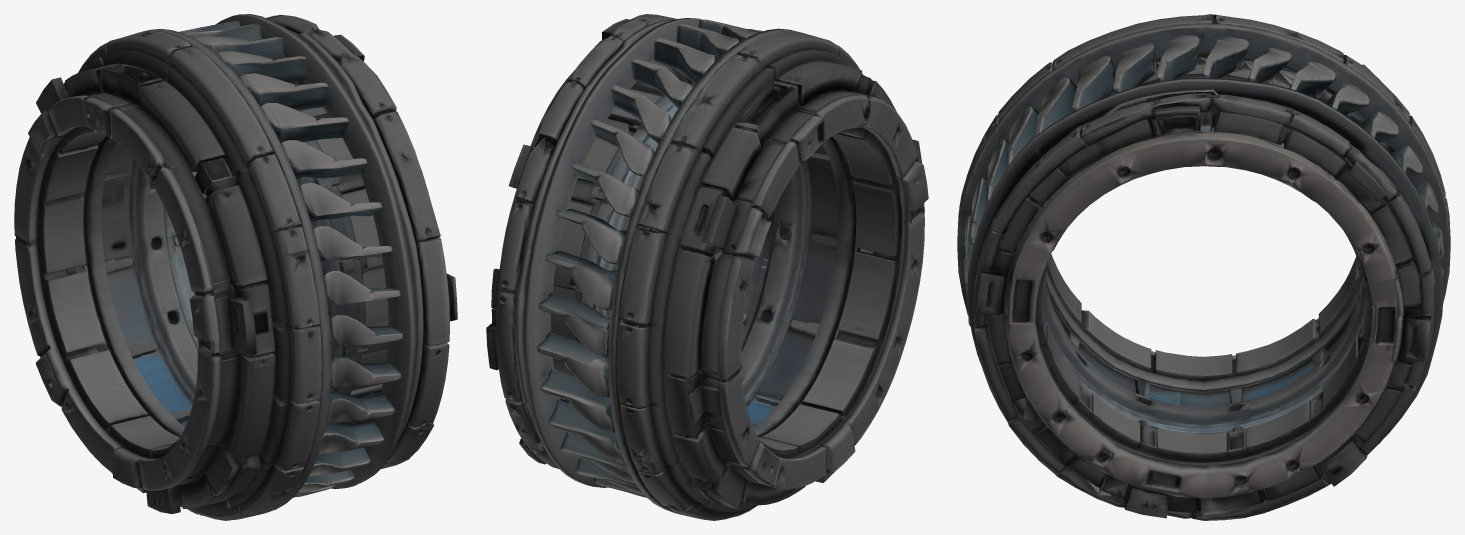
The model's file is futuristic+turbine+ring+3d+model.fbx.
3 renders of one model, left to right at view 1: azimuth 30°, elevation 25°; view 2: azimuth 150°, elevation 25°; view 3: azimuth 270°, elevation 25°, orthographic.
Parts seen in each view (by area): view 1: bbfed45c_0b16_4307_a727_3cb9f9251173; view 2: bbfed45c_0b16_4307_a727_3cb9f9251173; view 3: bbfed45c_0b16_4307_a727_3cb9f9251173.
Part boxes in pixels (x1,y1,x2,y2): bbfed45c_0b16_4307_a727_3cb9f9251173: (14,14,457,520); bbfed45c_0b16_4307_a727_3cb9f9251173: (486,14,928,520); bbfed45c_0b16_4307_a727_3cb9f9251173: (957,14,1450,520).
Bounding box in the file's own units: 0.5591 × 0.9995 × 0.9995.
Materials: 1 (1 with a texture image).
